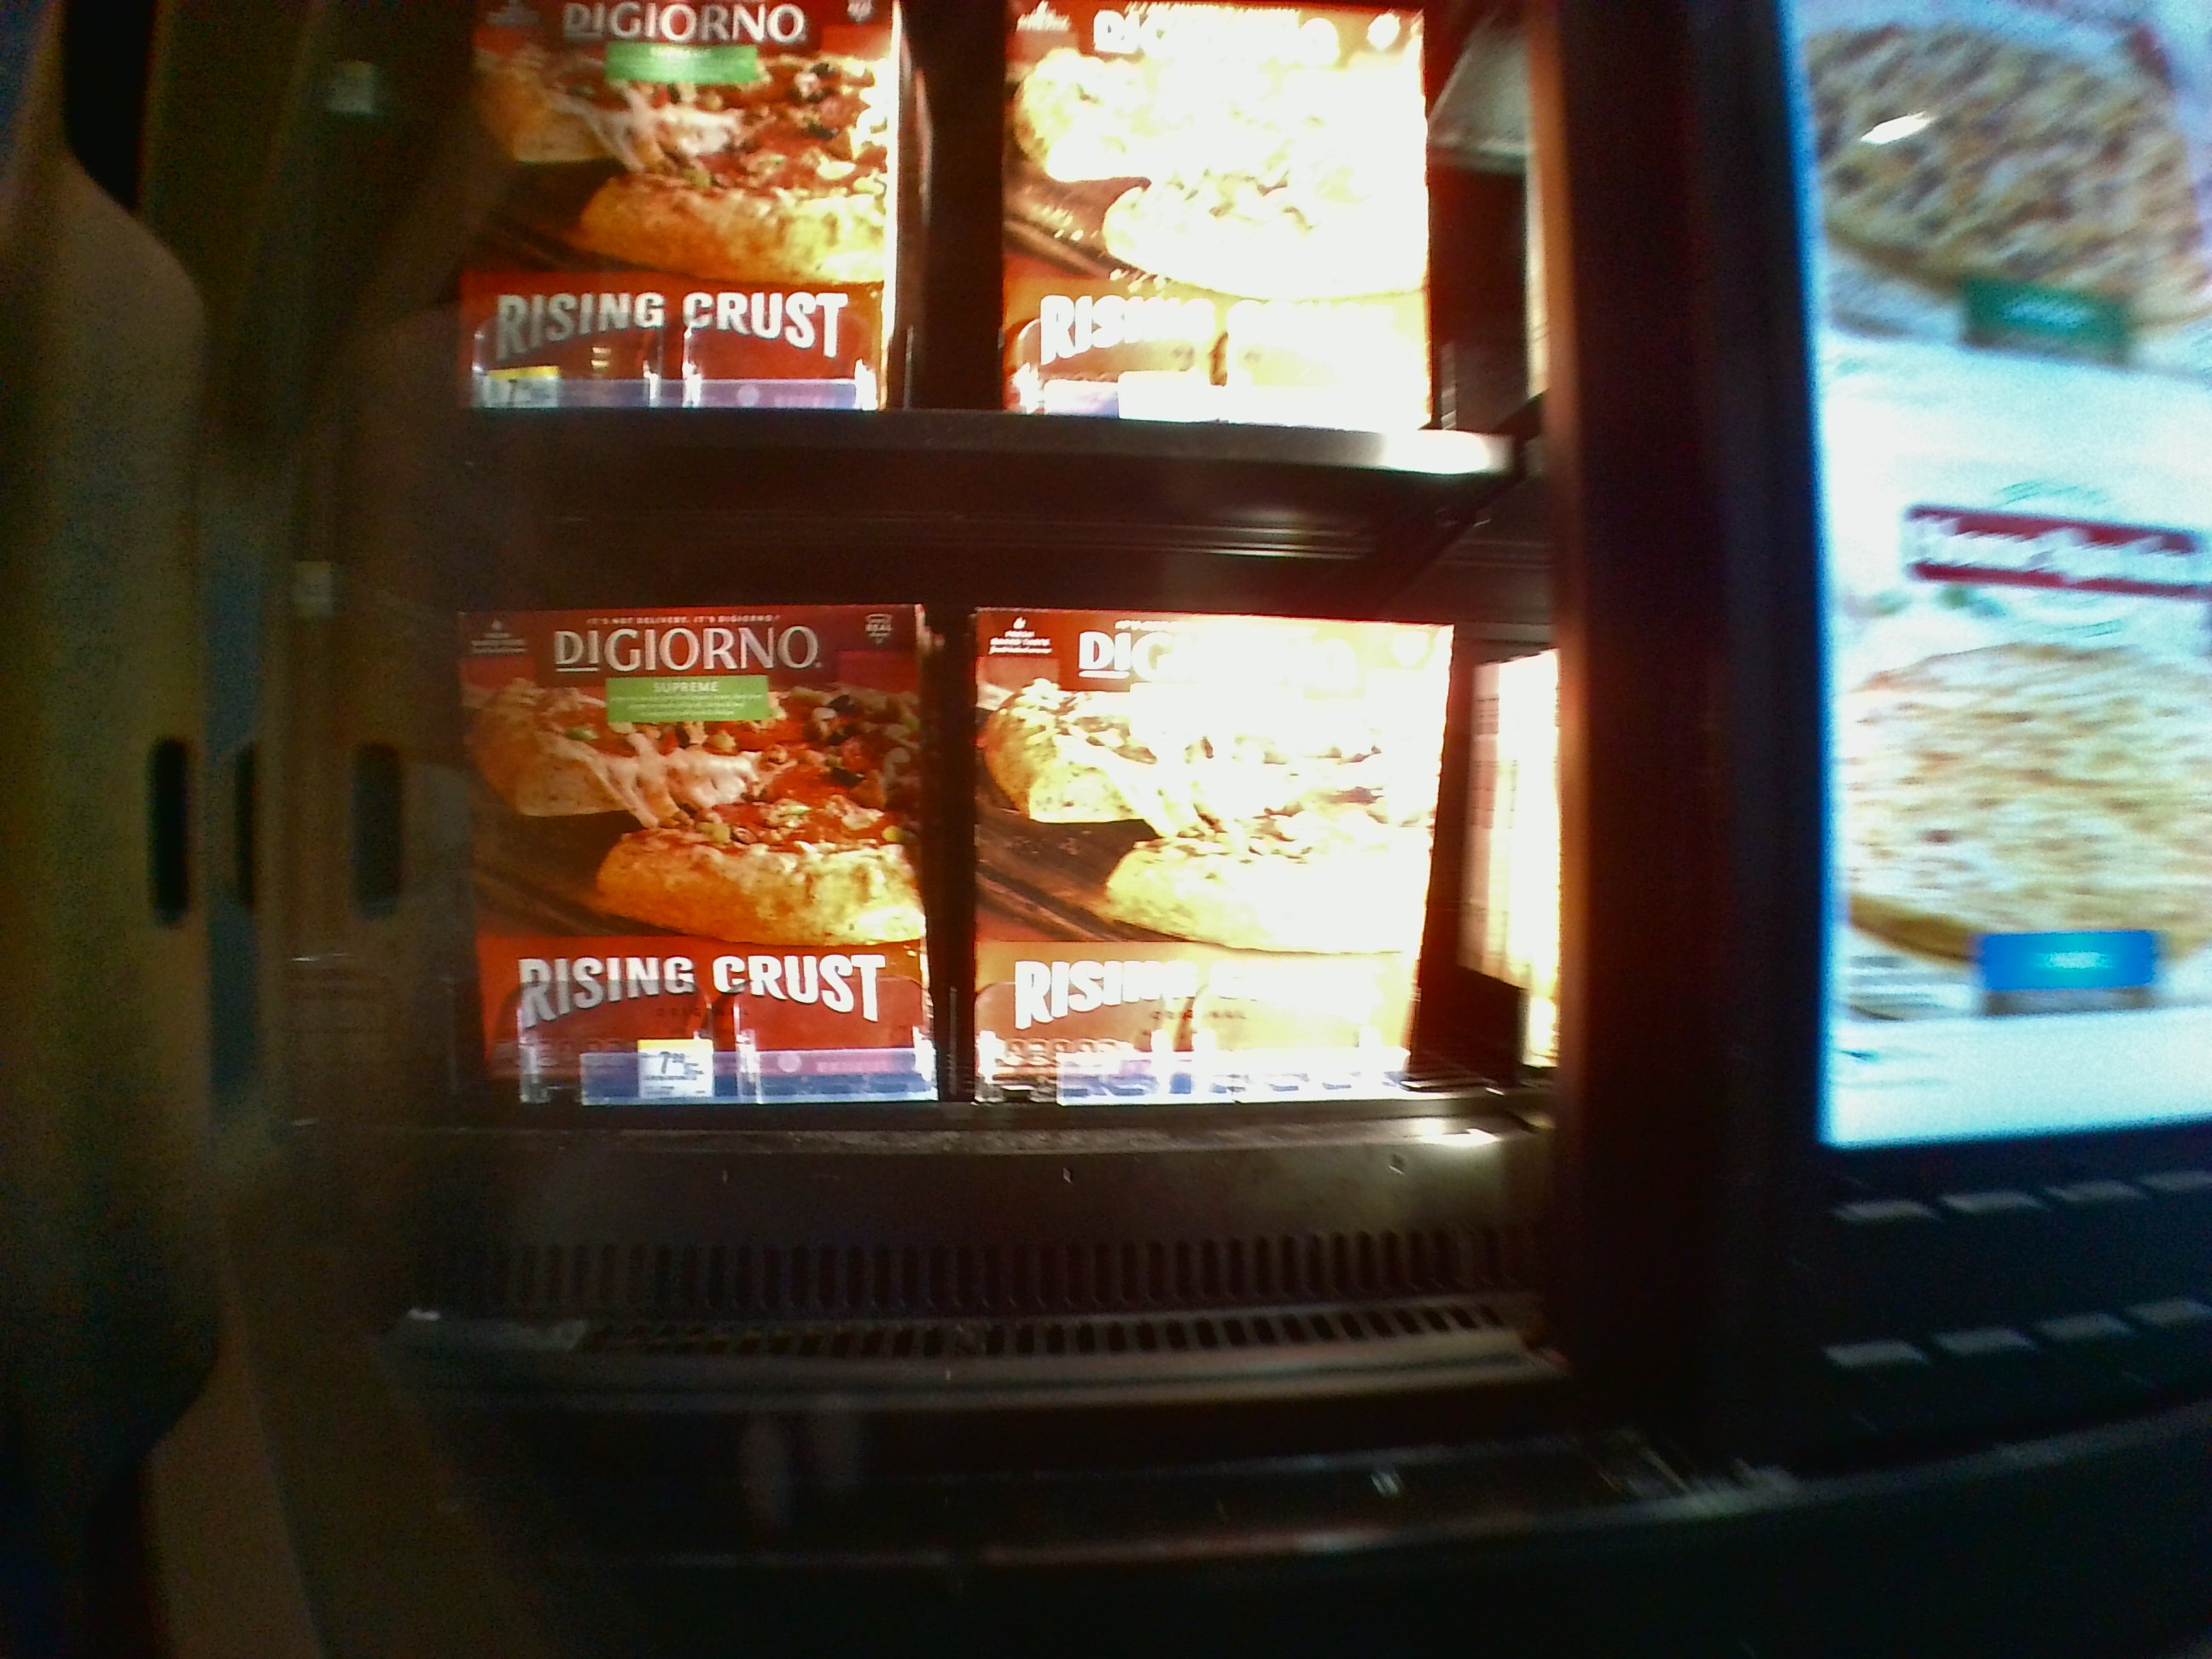shelf: (434, 471, 1521, 1323)
